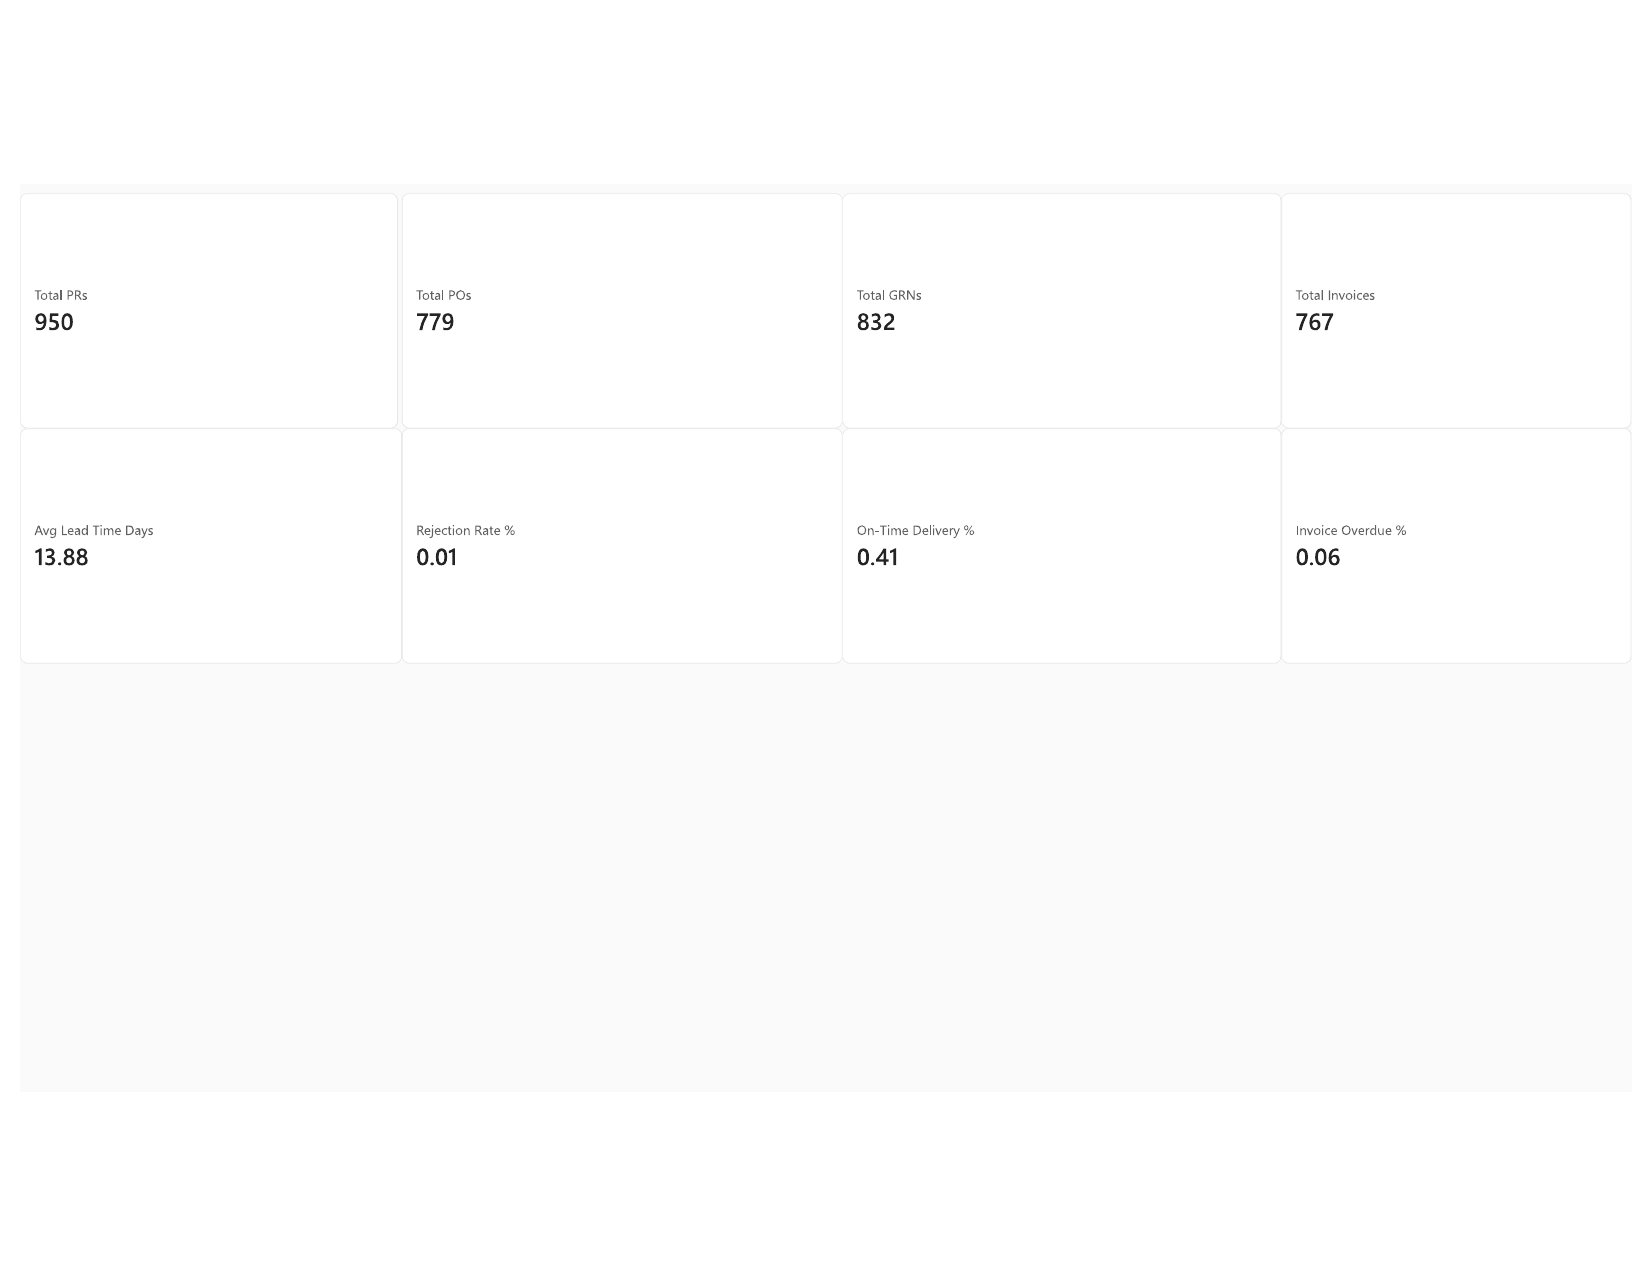

The page's visual inventory and layout, read from the dashboard file:
{"tool":"powerbi","page":{"name":"Operations KPI","canvas":[1920,1080],"ordinal":1},"visuals":[{"type":"cardVisual","fields":{"Data":["PO_Data.Total PRs"]},"box":[0,10,450,280],"z":0},{"type":"cardVisual","fields":{"Data":["PO_Data.Total POs"]},"box":[455,10,525,280],"z":1000},{"type":"cardVisual","fields":{"Data":["PO_Data.Total GRNs"]},"box":[980,10,522.5,280],"z":2000},{"type":"cardVisual","fields":{"Data":["PO_Data.Total Invoices"]},"box":[1502.5,10,417.5,280],"z":3000},{"type":"cardVisual","fields":{"Data":["PO_Data.Avg Lead Time Days"]},"box":[0,290,455,280],"z":4000},{"type":"cardVisual","fields":{"Data":["PO_Data.Rejection Rate %"]},"box":[455,290,525,280],"z":5000},{"type":"cardVisual","fields":{"Data":["PO_Data.On-Time Delivery %"]},"box":[980,290,522.5,280],"z":6000},{"type":"cardVisual","fields":{"Data":["PO_Data.Invoice Overdue %"]},"box":[1502.5,290,417.5,280],"z":7000}]}

Visuals, with their boxes on the page's 1920x1080 design canvas (x1, y1, x2, y2). These are canvas units, not pixel positions in the 1650x1275 screenshot, which may show the page scaled, cropped or inside an application window:
cardVisual - PO_Data.Total PRs: Rect(0, 10, 450, 290)
cardVisual - PO_Data.Total POs: Rect(455, 10, 980, 290)
cardVisual - PO_Data.Total GRNs: Rect(980, 10, 1502, 290)
cardVisual - PO_Data.Total Invoices: Rect(1502, 10, 1920, 290)
cardVisual - PO_Data.Avg Lead Time Days: Rect(0, 290, 455, 570)
cardVisual - PO_Data.Rejection Rate %: Rect(455, 290, 980, 570)
cardVisual - PO_Data.On-Time Delivery %: Rect(980, 290, 1502, 570)
cardVisual - PO_Data.Invoice Overdue %: Rect(1502, 290, 1920, 570)
